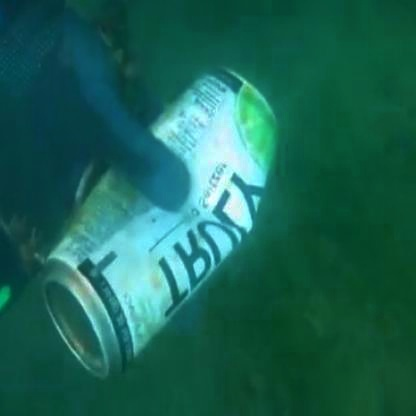can: (32, 78, 285, 382)
